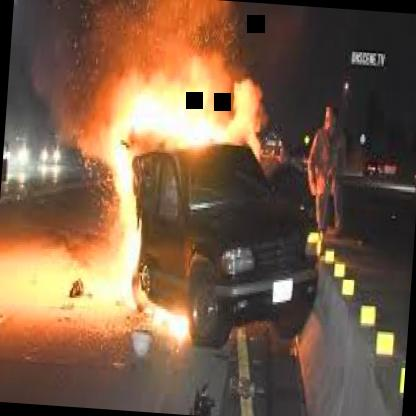fire: (82, 58, 232, 329)
